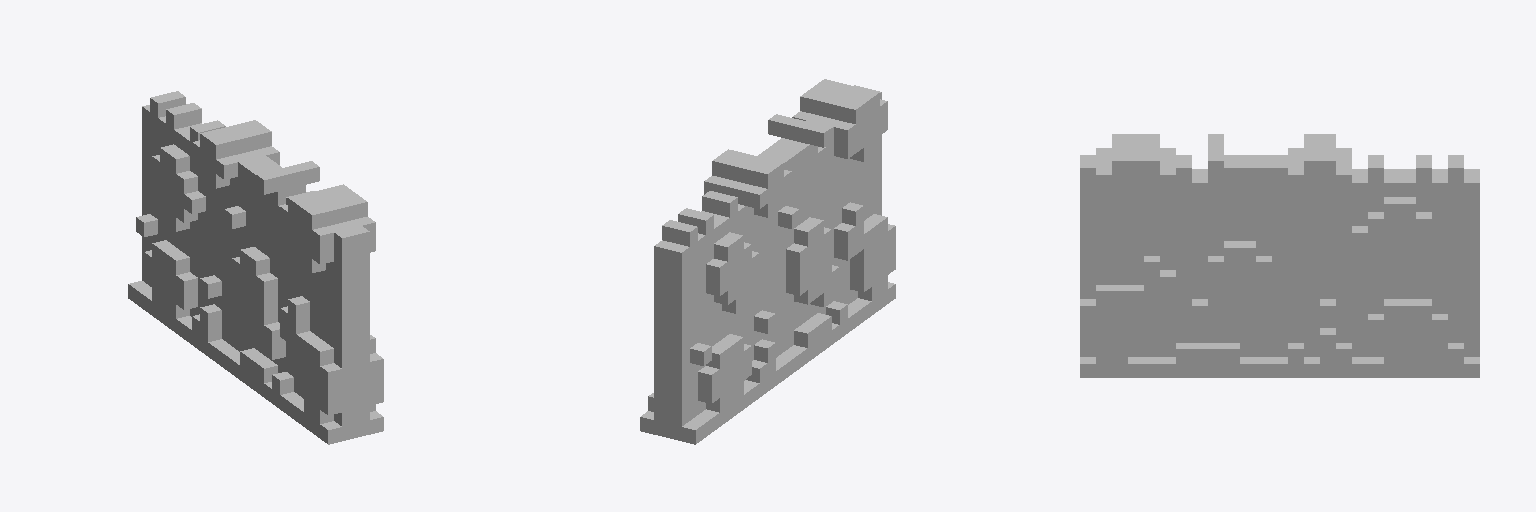
Rendered from Package 01 Necro Dungeon-46.obj.
The picture shows the model from 3 angles: view 1: azimuth 30°, elevation 25°; view 2: azimuth 150°, elevation 25°; view 3: azimuth 270°, elevation 25°; orthographic projection.
Visible parts, largest first — view 1: object 1; view 2: object 1; view 3: object 1.
Boxes of the visible parts, x1=… form: object 1: x1=128, y1=91, x2=383, y2=444; object 1: x1=640, y1=79, x2=895, y2=444; object 1: x1=1080, y1=134, x2=1479, y2=377.
Size of the model in its own units: 0.4 by 1.5 by 2.5.